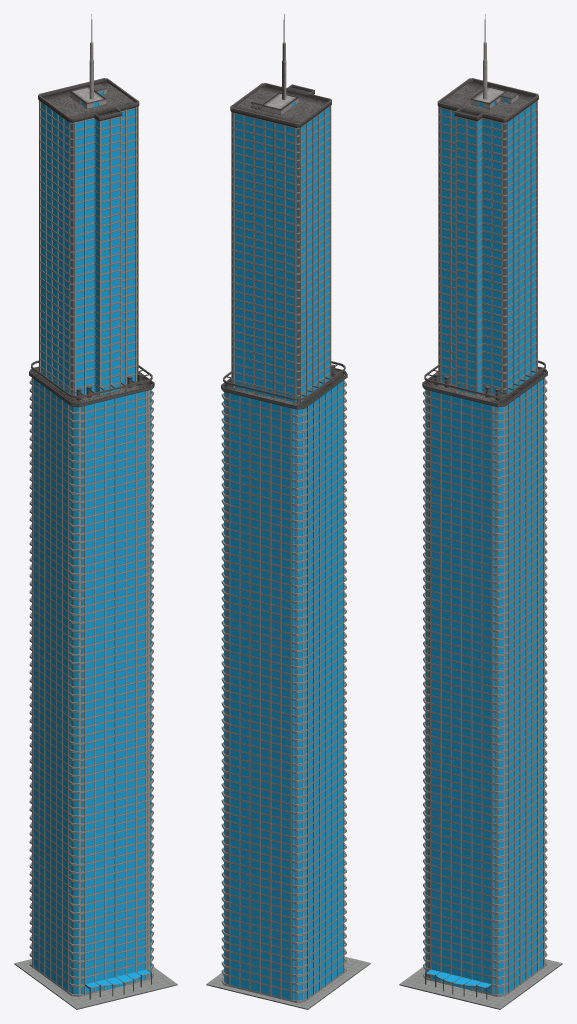
File: skyscraper.glb
The picture shows the model from 3 angles, left to right: view 1: azimuth 30°, elevation 25°; view 2: azimuth 150°, elevation 25°; view 3: azimuth 330°, elevation 25°; orthographic projection.
Visible parts, largest first — view 1: Object_6, Object_5, Object_4, Object_3, Object_2; view 2: Object_6, Object_5, Object_4, Object_3, Object_2; view 3: Object_6, Object_5, Object_4, Object_3, Object_2.
Boxes of the visible parts, left/top/right/bottom form: Object_6: left=33, top=91, right=151, bottom=994; Object_5: left=32, top=14, right=150, bottom=995; Object_4: left=29, top=378, right=153, bottom=996; Object_3: left=29, top=78, right=154, bottom=999; Object_2: left=14, top=959, right=177, bottom=1009; Object_6: left=224, top=102, right=342, bottom=1000; Object_5: left=225, top=14, right=344, bottom=1001; Object_4: left=221, top=380, right=346, bottom=1002; Object_3: left=221, top=83, right=347, bottom=960; Object_2: left=206, top=956, right=370, bottom=1009; Object_6: left=425, top=98, right=543, bottom=994; Object_5: left=426, top=14, right=544, bottom=995; Object_4: left=423, top=378, right=547, bottom=996; Object_3: left=422, top=78, right=547, bottom=999; Object_2: left=399, top=959, right=562, bottom=1009.
Size of the model in its own units: 64.33 by 582 by 68.93.
Materials: 4 (3 with a texture image).
